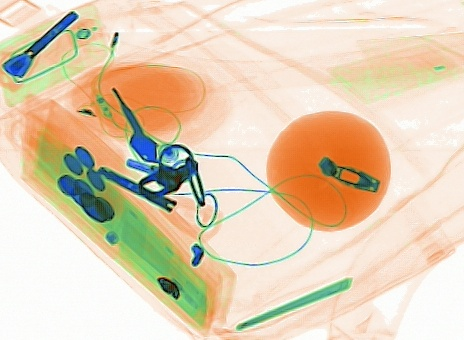scissors: (99, 165, 224, 243)
